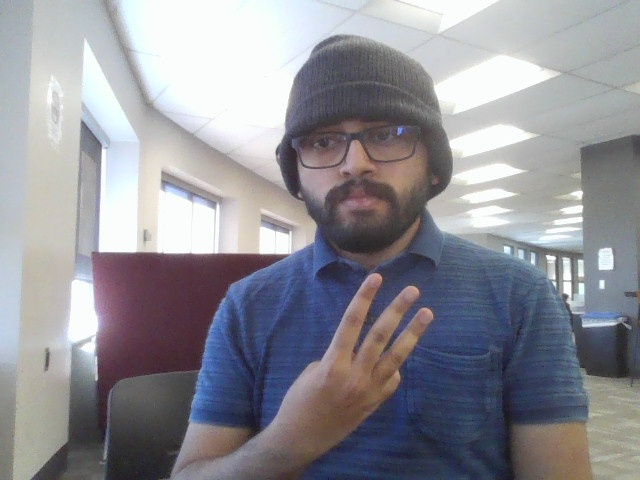start: (275, 265, 443, 474)
